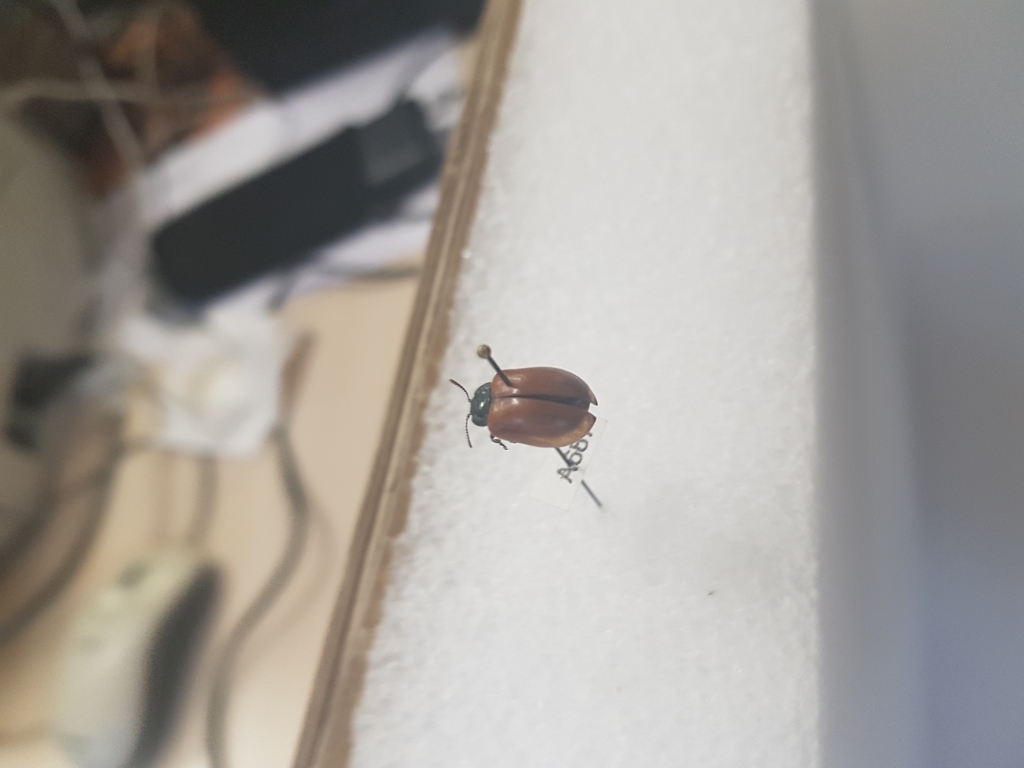Chrysomela_populi: (437, 361, 600, 455)
